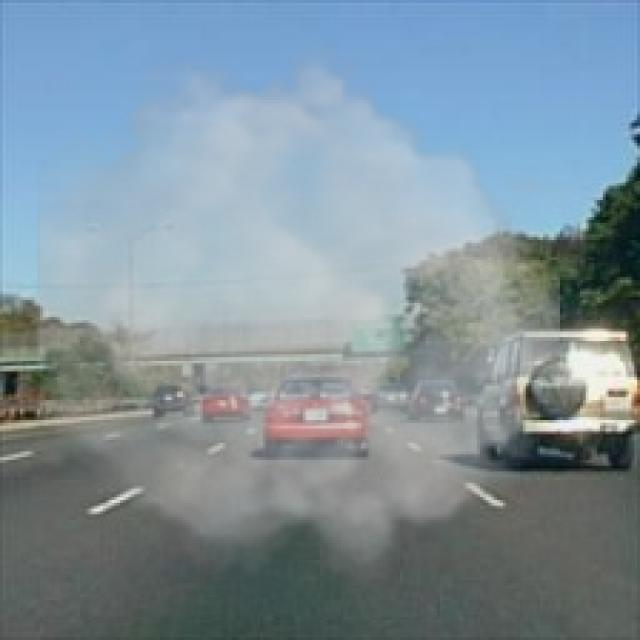smoke: (37, 40, 560, 586)
